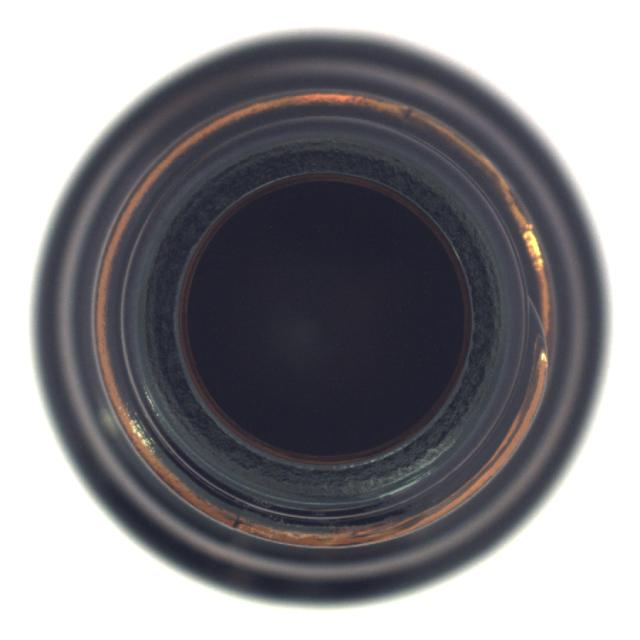bottle-good: (31, 30, 600, 604)
